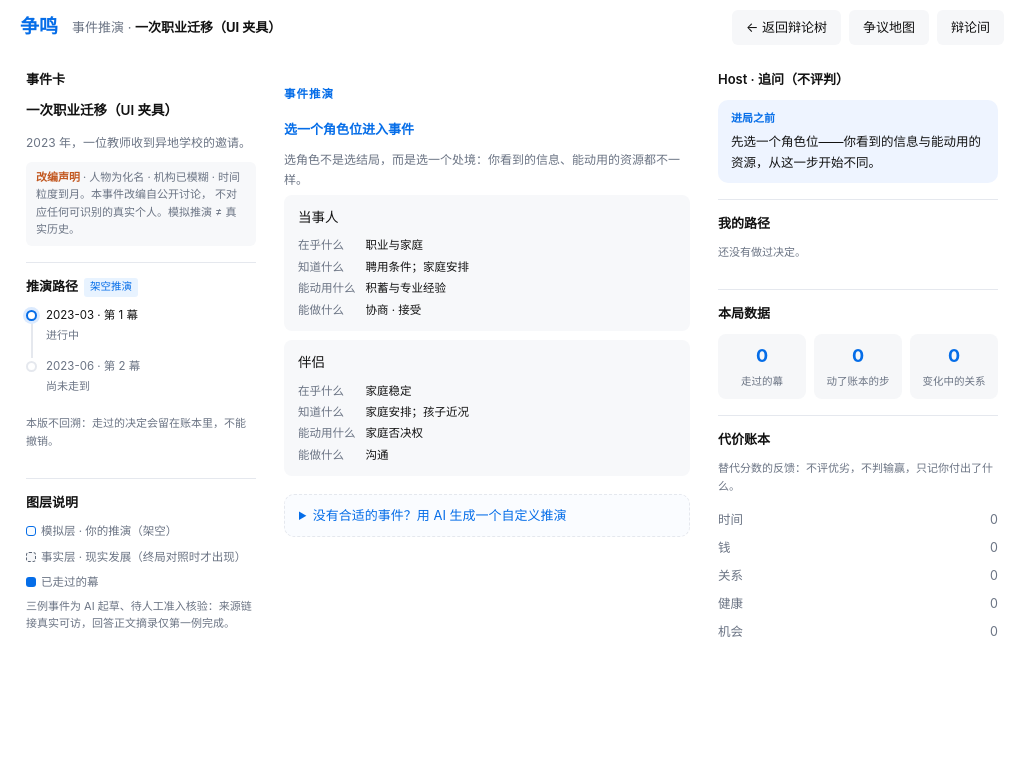
事件推演 UI · 沉浸式隔离（红线 3） › 选位后进入推演：外部事件可见、原作不可见，且界面标注「架空推演」
Click the button with aria-label "以当事人进入事件" at coordinates (318, 217), box 284,195 -> 690,331
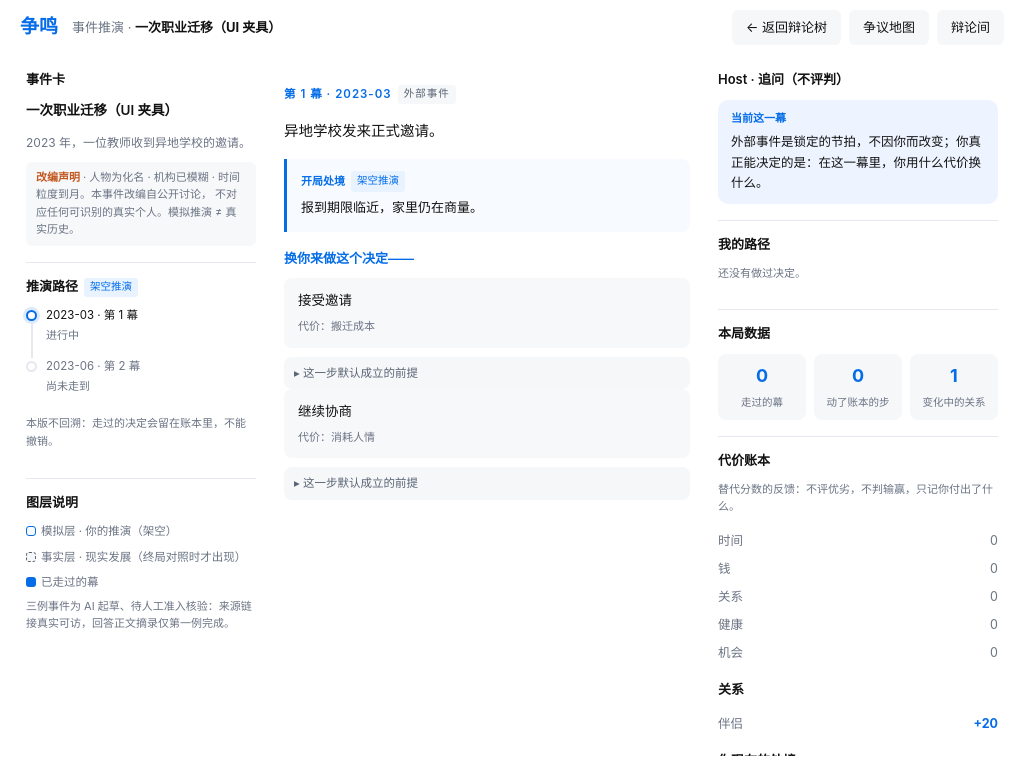
expect the text "架空推演" next to "推演路径" is shown: met, box 90,280 -> 132,293
expect the text "异地学校发来正式邀请。" is shown: met, box 284,122 -> 444,139
